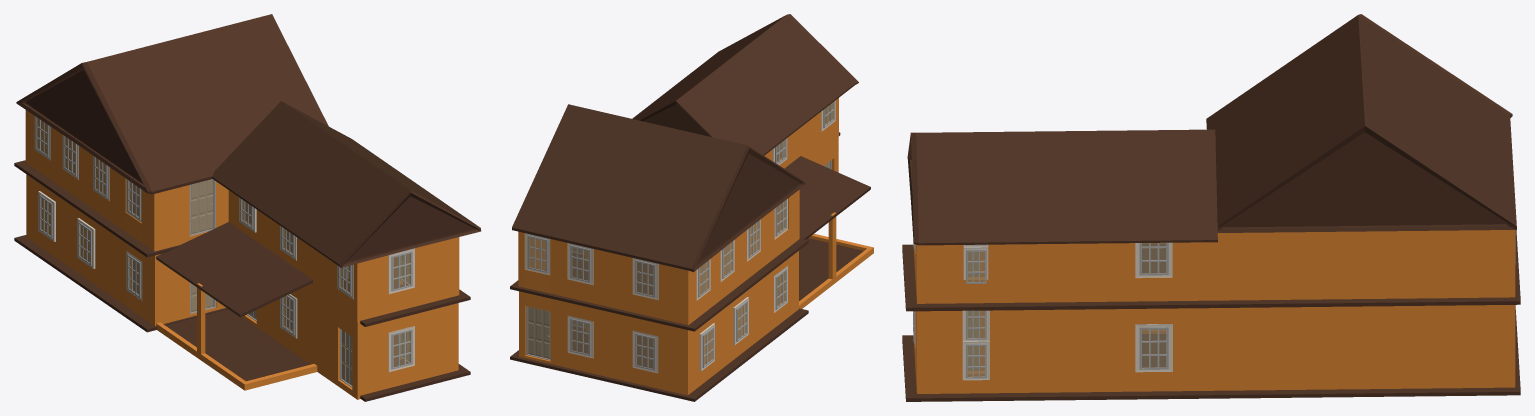
The model's file is casaNaranja.fbx.
3 views of the same model, side by side, from view 1: azimuth 30°, elevation 25°; view 2: azimuth 150°, elevation 25°; view 3: azimuth 270°, elevation 25° (orthographic). The views are drawn at different scales.
Parts seen in each view (by area): view 1: pasted__pCube18, pasted__pCube19, pasted__pCube15, pasted__polySurface1, pasted__pCube17, pasted__pCube16, pasted__pCube20, pasted__pCube21, pasted__pasted__door (×2), pasted__pasted__glass_02 (×2); view 2: pasted__pCube18, pasted__pCube19, pasted__pCube15, pasted__polySurface1, pasted__pCube17, pasted__pCube20, pasted__pCube21, pasted__pasted__glass_02 (×5), pasted__pCube16, pasted__pasted__outer_frame_02 (×4), pasted__pasted__door; view 3: pasted__pCube18, pasted__pCube15, pasted__polySurface1, pasted__pCube19, pasted__pCube20, pasted__pCube21, pasted__pasted__glass_02 (×2), pasted__pasted__outer_frame_02.
Boxes of the visible parts, x1,y1,x2,y2 form: pasted__pCube18: (16,14,328,194); pasted__pCube19: (212,101,481,267); pasted__pCube15: (26,174,458,399); pasted__polySurface1: (25,110,459,321); pasted__pCube17: (156,222,313,317); pasted__pCube16: (165,309,310,381); pasted__pCube20: (14,235,470,401); pasted__pCube21: (14,160,470,326); pasted__pasted__door (×2): (191,179,352,385); pasted__pasted__glass_02 (×2): (393,253,410,367); pasted__pCube18: (512,104,805,272); pasted__pCube19: (632,14,858,155); pasted__pCube15: (519,137,873,395); pasted__polySurface1: (518,98,838,325); pasted__pCube17: (784,156,870,239); pasted__pCube20: (510,308,808,401); pasted__pCube21: (510,132,840,331); pasted__pasted__glass_02 (×5): (529,237,653,368); pasted__pCube16: (799,238,863,300); pasted__pasted__outer_frame_02 (×4): (567,243,658,373); pasted__pasted__door: (528,306,549,358); pasted__pCube18: (1206,14,1516,232); pasted__pCube15: (914,305,1515,393); pasted__polySurface1: (913,230,1515,303); pasted__pCube19: (907,129,1217,245); pasted__pCube20: (902,305,1520,401); pasted__pCube21: (902,230,1520,311); pasted__pasted__glass_02 (×2): (1142,242,1166,367); pasted__pasted__outer_frame_02: (1135,324,1172,372).
Bounding box in the file's own units: 28.7 × 27.93 × 57.62.
